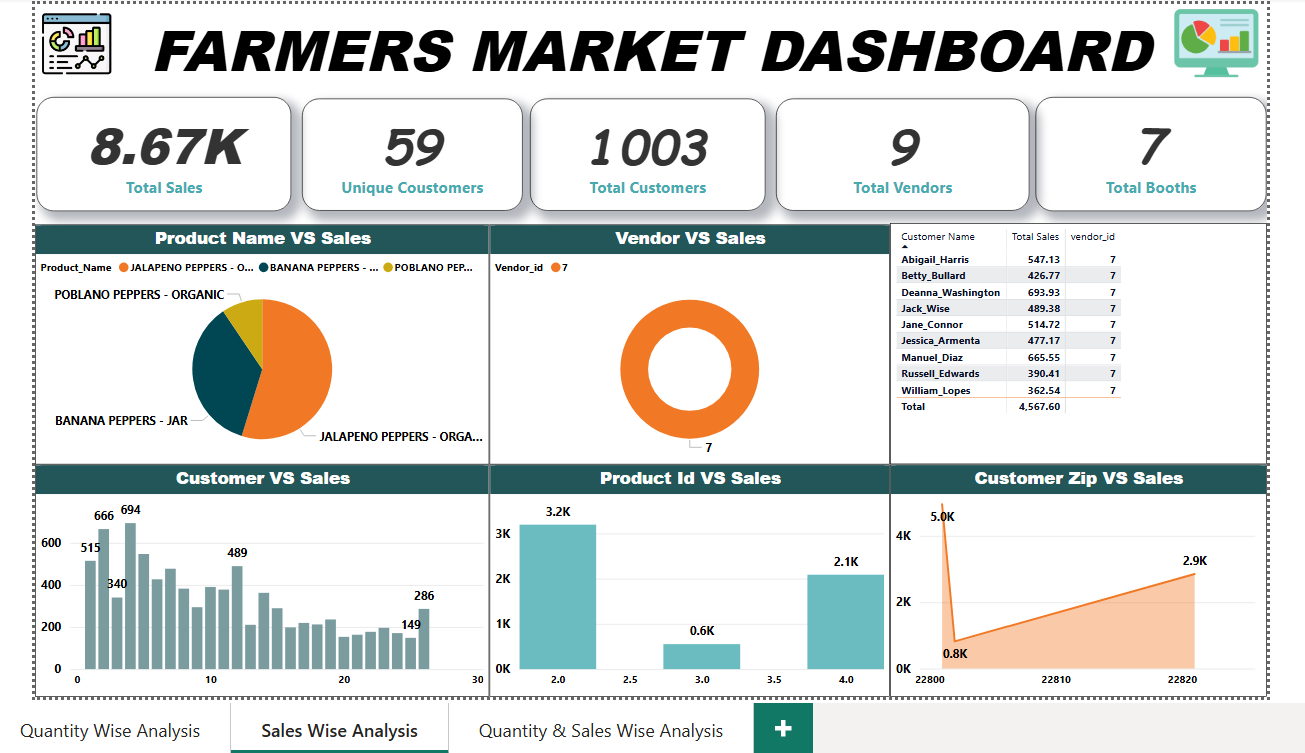

The dashboard page shown, as its layout file describes it:
{"tool":"powerbi","page":{"name":"Sales Wise Analysis","canvas":[1280,720],"ordinal":1},"visuals":[{"type":"columnChart","title":"Customer VS Sales","fields":{"Category":["customer.customer_id"],"Y":["customer_purchases.sales"]},"box":[0,478.4,472.2,241.6],"z":0},{"type":"clusteredColumnChart","title":"Product Id VS Sales","fields":{"Category":["sample_products.product_id"],"Y":["customer_purchases.sales"]},"box":[472.2,478.4,416.1,241.6],"z":1000},{"type":"pieChart","title":"Product Name VS Sales","fields":{"Category":["sample_products.product_name"],"Y":["customer_purchases.sales"]},"box":[0,229.1,472.2,249.4],"z":2000},{"type":"donutChart","title":"Vendor VS Sales","fields":{"Category":["vendor.vendor_id"],"Y":["customer_purchases.sales"]},"box":[472.2,229.1,416.1,249.4],"z":3000},{"type":"textbox","box":[0,0,1279.5,98.2],"z":4000},{"type":"image","box":[0,0,87.3,82.6],"z":5000},{"type":"image","box":[1175.1,0,104.4,81],"z":6000},{"type":"card","fields":{"Values":["customer_purchases.total_sales"]},"box":[1.6,96.6,264.9,118.4],"z":7000},{"type":"card","fields":{"Values":["customer_purchases.customer_id"]},"box":[277.4,98.2,229.1,116.9],"z":8000},{"type":"card","fields":{"Values":["customer_purchases.customer_id"]},"box":[514.3,98.2,244.7,116.9],"z":9000},{"type":"card","fields":{"Values":["vendor.vendor_id"]},"box":[769.9,98.2,263.4,116.9],"z":10000},{"type":"card","fields":{"Values":["vendor_booth_assignments.booth_number"]},"box":[1039.5,96.6,240,118.4],"z":11000},{"type":"tableEx","fields":{"Values":["customer.Customer_Full_name","customer_purchases.sales","customer_purchases.vendor_id"]},"box":[888.3,227.5,391.2,250.9],"z":12000},{"type":"areaChart","title":"Customer Zip VS Sales","fields":{"Category":["customer.customer_zip"],"Y":["customer_purchases.sales"]},"box":[888,479,391,241],"z":13000}]}

Visuals, with their boxes in screenshot pixels (x1, y1, x2, y2), scaled from the page's 1280x720 canvas onto the 1305x753 screenshot:
"Customer VS Sales" columnChart: bbox=[0, 500, 481, 752]
"Product Id VS Sales" clusteredColumnChart: bbox=[481, 500, 906, 752]
"Product Name VS Sales" pieChart: bbox=[0, 240, 481, 500]
"Vendor VS Sales" donutChart: bbox=[481, 240, 906, 500]
textbox: bbox=[0, 0, 1304, 103]
image: bbox=[0, 0, 89, 86]
image: bbox=[1198, 0, 1304, 85]
card - customer_purchases.total_sales: bbox=[2, 101, 272, 225]
card - customer_purchases.customer_id: bbox=[283, 103, 516, 225]
card - customer_purchases.customer_id: bbox=[524, 103, 774, 225]
card - vendor.vendor_id: bbox=[785, 103, 1053, 225]
card - vendor_booth_assignments.booth_number: bbox=[1060, 101, 1304, 225]
tableEx - customer.Customer_Full_name x customer_purchases.sales: bbox=[906, 238, 1304, 500]
"Customer Zip VS Sales" areaChart: bbox=[905, 501, 1304, 752]
